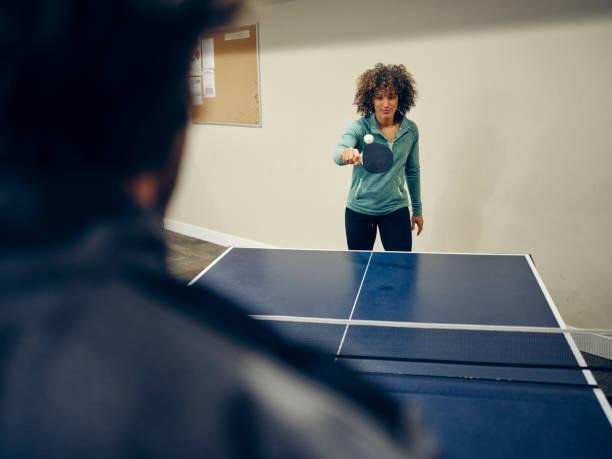ball_pingpong: (364, 132, 374, 144)
